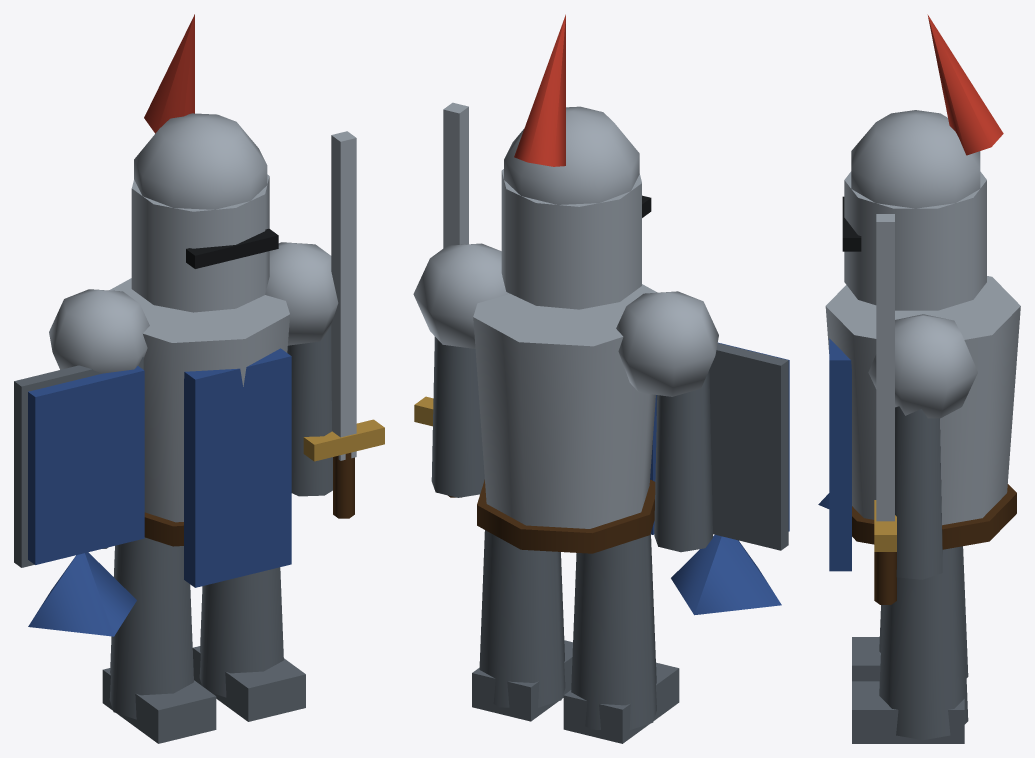
Rendered from knight.glb.
3 renders of one model, left to right at view 1: azimuth 30°, elevation 25°; view 2: azimuth 150°, elevation 25°; view 3: azimuth 270°, elevation 25°, orthographic.
Parts seen in each view (by area): view 1: knight_tabard, knight_shield, knight_leg (×2), knight_torso, knight_helm, knight_pauldron (×2), knight_helm_top, knight_boot (×2), knight_sword, knight_arm, knight_shield_point, knight_shield_rim (+5 smaller); view 2: knight_torso, knight_leg (×2), knight_arm (×2), knight_pauldron (×2), knight_shield_rim, knight_helm, knight_helm_top, knight_boot (×2), knight_shield_point, knight_belt, knight_plume, knight_sword; view 3: knight_torso, knight_leg (×2), knight_helm, knight_helm_top, knight_arm, knight_pauldron, knight_sword, knight_tabard, knight_boot (×2), knight_plume, knight_belt, knight_sword_grip (+2 smaller).
Part boxes in pixels (x1,y1,x2,y2): knight_tabard: (184, 348, 291, 587); knight_shield: (28, 366, 144, 564); knight_leg (×2): (109, 537, 283, 719); knight_torso: (109, 278, 289, 522); knight_helm: (131, 174, 269, 312); knight_pauldron (×2): (49, 242, 338, 373); knight_helm_top: (134, 113, 267, 209); knight_boot (×2): (102, 646, 305, 743); knight_sword: (331, 131, 356, 460); knight_arm: (287, 325, 332, 496); knight_shield_point: (28, 552, 136, 636); knight_shield_rim: (14, 356, 143, 567); knight_torso: (473, 284, 657, 528); knight_leg (×2): (479, 530, 656, 729); knight_arm (×2): (431, 336, 712, 552); knight_pauldron (×2): (413, 243, 718, 396); knight_shield_rim: (656, 343, 788, 550); knight_helm: (501, 169, 641, 309); knight_helm_top: (504, 106, 639, 204); knight_boot (×2): (472, 640, 679, 743); knight_shield_point: (671, 534, 781, 615); knight_belt: (477, 479, 655, 553); knight_plume: (514, 14, 565, 166); knight_sword: (443, 102, 468, 248); knight_torso: (825, 276, 1020, 525); knight_leg (×2): (879, 546, 968, 740); knight_helm: (844, 171, 986, 310); knight_helm_top: (851, 110, 980, 208); knight_arm: (895, 406, 942, 579); knight_pauldron: (868, 314, 977, 418); knight_sword: (876, 214, 894, 521); knight_tabard: (829, 338, 851, 571); knight_boot (×2): (852, 637, 964, 743); knight_plume: (927, 14, 1003, 155); knight_belt: (852, 484, 1016, 549); knight_sword_grip: (874, 552, 896, 604).
Size of the model in its own units: 1.12 by 2.04 by 0.54.
